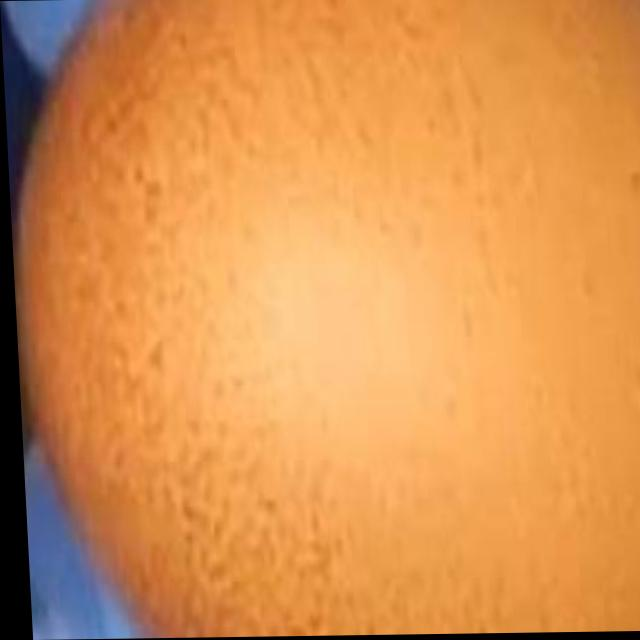unfresh: (6, 0, 640, 640)
